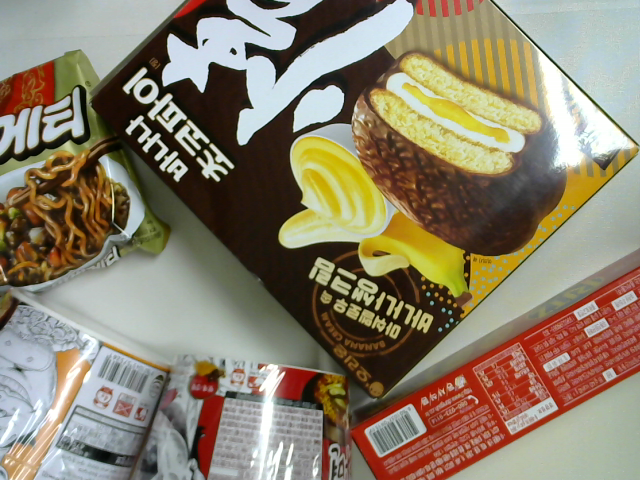Choco_Pie_Banana: (83, 1, 638, 402)
Hejangchan: (1, 279, 174, 480)
Hejangpul: (131, 350, 356, 480)
Olive_Chapaghetti: (1, 46, 175, 309)
Ritz_Cracker: (345, 242, 637, 480)
